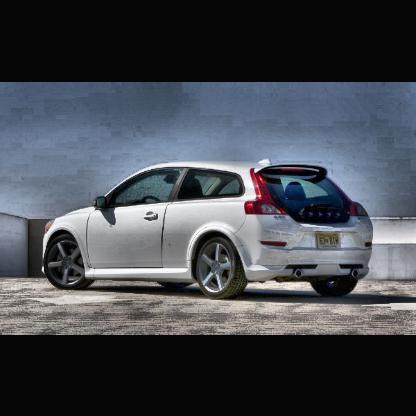Volvo C30 Hatchback 2012: (41, 160, 377, 301)
